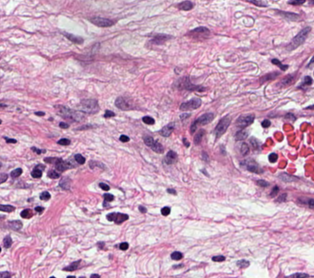nucleus: (190, 113, 213, 132), (55, 105, 84, 120), (178, 78, 203, 90), (215, 117, 230, 137), (80, 99, 98, 113), (243, 160, 262, 173), (187, 27, 209, 38), (89, 16, 113, 26), (180, 98, 200, 110), (115, 96, 133, 109), (236, 114, 254, 127), (63, 32, 82, 43), (54, 158, 68, 171), (159, 124, 173, 136), (152, 34, 170, 43), (178, 0, 193, 10), (272, 59, 287, 69), (165, 151, 176, 164), (194, 129, 204, 143), (261, 73, 278, 81), (143, 136, 155, 147), (114, 213, 127, 223), (151, 141, 162, 152), (31, 166, 42, 177), (59, 178, 70, 189), (235, 130, 246, 140), (10, 168, 21, 177), (20, 209, 31, 218), (10, 220, 21, 229), (142, 116, 154, 124), (250, 137, 258, 149), (249, 1, 267, 6), (74, 154, 84, 163), (240, 143, 248, 154), (48, 170, 59, 178), (3, 236, 11, 247), (0, 205, 14, 211), (270, 186, 278, 196), (103, 193, 113, 201), (32, 147, 44, 153), (269, 153, 277, 162), (40, 191, 49, 199), (104, 110, 114, 117), (99, 183, 109, 190), (58, 138, 69, 144), (257, 180, 268, 186), (262, 119, 270, 127), (161, 207, 169, 215), (107, 213, 116, 220), (119, 242, 128, 249), (119, 135, 129, 141), (45, 158, 57, 163), (5, 137, 16, 142), (59, 122, 68, 128), (183, 138, 189, 146), (0, 174, 6, 182), (35, 206, 42, 212), (181, 114, 189, 119), (167, 189, 175, 194), (35, 111, 44, 115), (139, 206, 145, 212)
